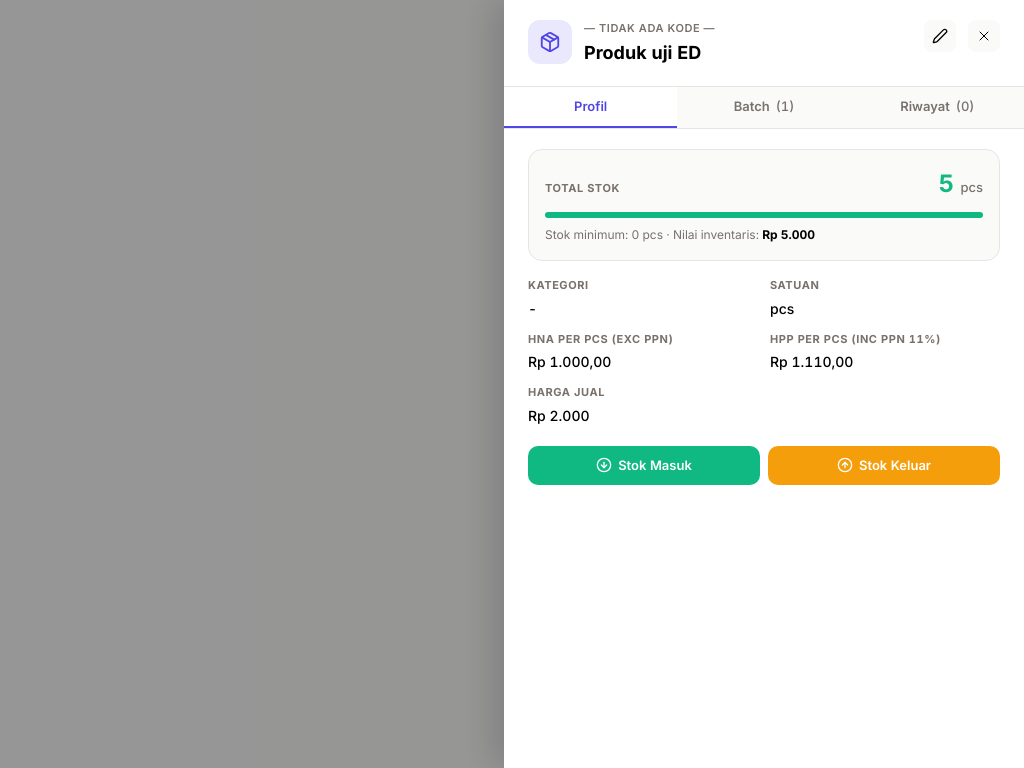
Scenario: ProductDrawer status ED › ED day expired mulai hari berikutnya
Click the button "Batch(1)": (764, 107) top-left (677, 86), bottom-right (851, 128)
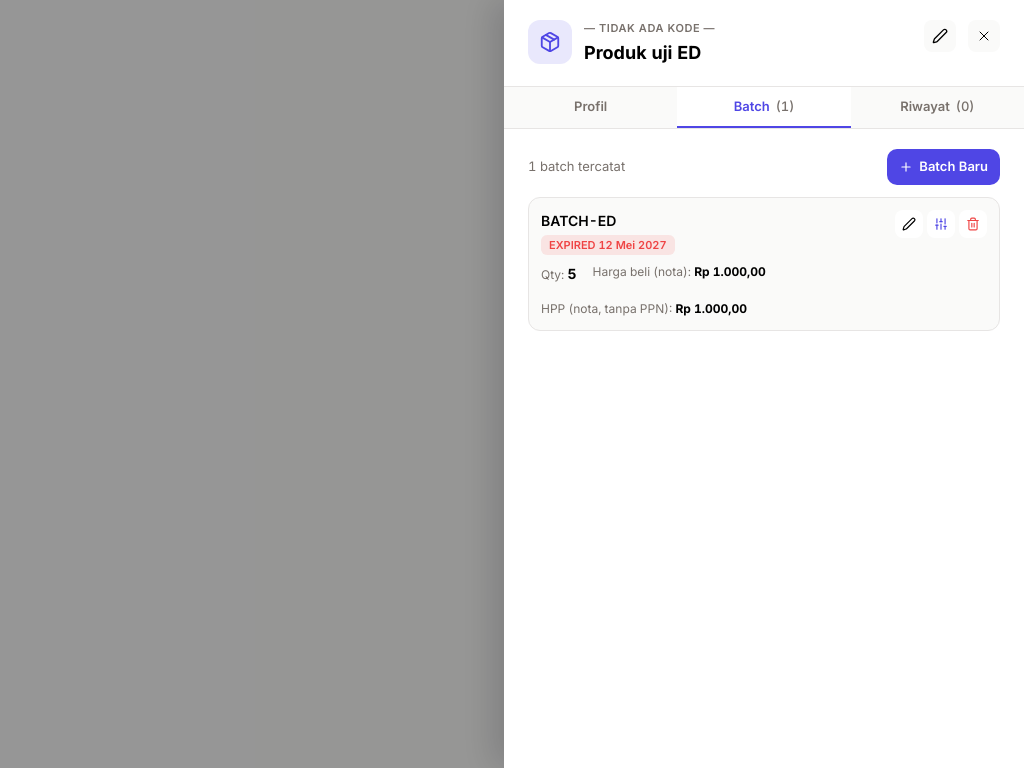
Expected: the text "EXPIRED 12 Mei 2027" is shown, top-left (541, 234), bottom-right (675, 255)
